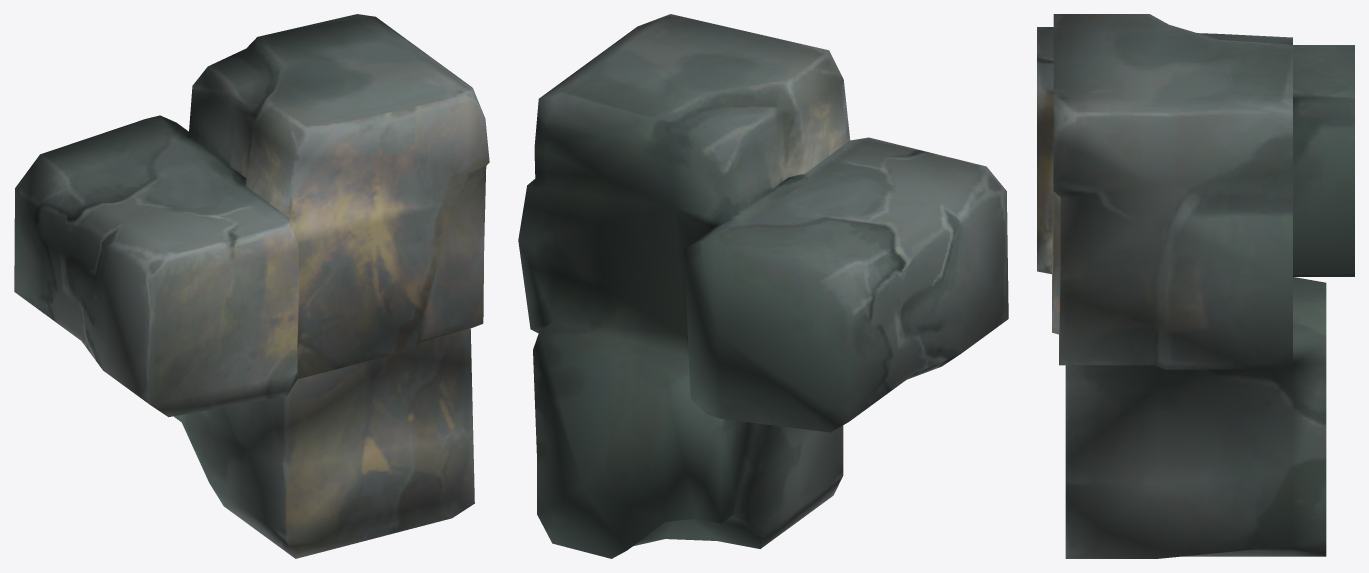
Rendered from Floor_Block_B.fbx.
3 renders of one model, left to right at view 1: azimuth 30°, elevation 25°; view 2: azimuth 150°, elevation 25°; view 3: azimuth 270°, elevation 25°, orthographic. The views are drawn at different scales.
Parts seen in each view (by area): view 1: Floor_Block_B; view 2: Floor_Block_B; view 3: Floor_Block_B.
Part boxes in pixels (left/top/right/bottom): Floor_Block_B: left=14, top=14, right=489, bottom=558; Floor_Block_B: left=518, top=14, right=1008, bottom=558; Floor_Block_B: left=1037, top=14, right=1354, bottom=558.
Bounding box in the file's own units: 594 × 672 × 414.
